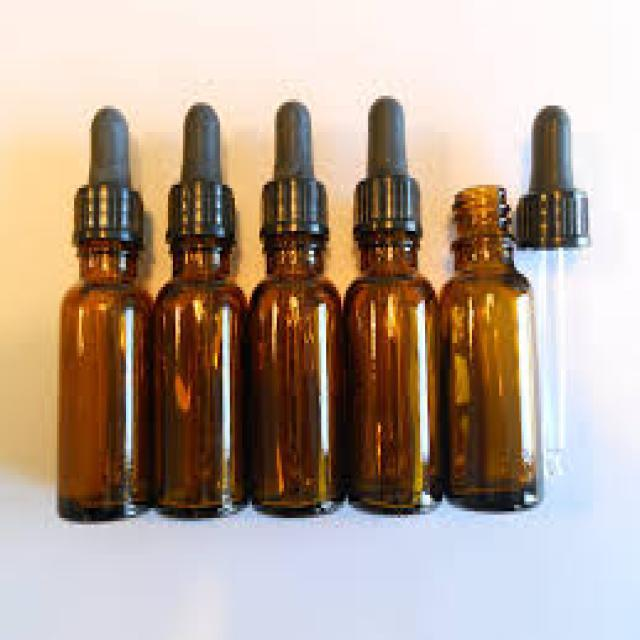Glass-Bottle: (422, 176, 602, 514), (41, 96, 159, 521), (339, 88, 448, 529), (159, 100, 254, 516), (248, 105, 339, 520)
